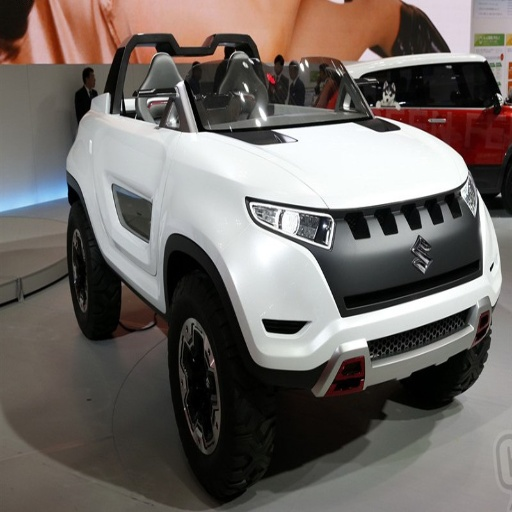front_bumper: (228, 183, 501, 394)
front_right_door: (119, 185, 155, 275)
front_right_light: (247, 198, 334, 245)
trunk: (136, 139, 180, 186)
